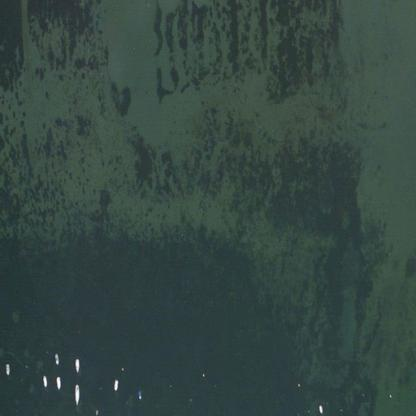ship: (69, 381, 85, 407), (52, 371, 64, 392), (71, 355, 83, 375), (50, 350, 62, 367), (110, 375, 121, 393), (36, 373, 48, 389), (2, 360, 13, 377), (313, 400, 326, 414), (133, 387, 145, 402)
